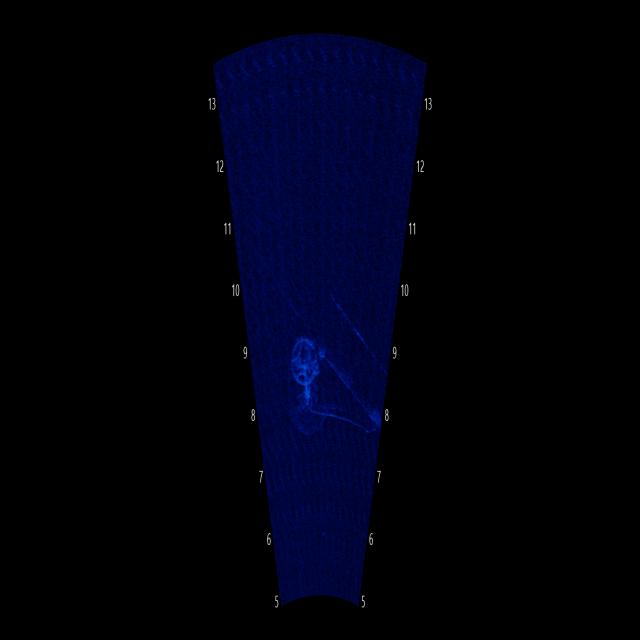circle: (284, 311, 334, 398)
